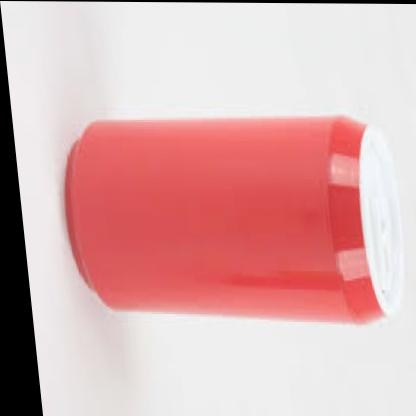trash: (66, 116, 382, 321)
